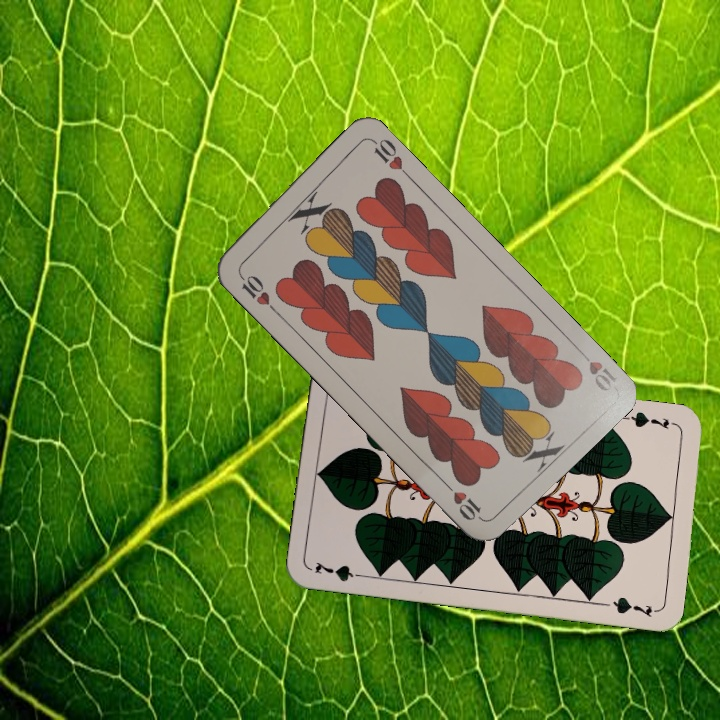G7: (311, 557, 369, 584), (621, 407, 680, 432)
H10: (572, 343, 620, 394), (234, 267, 279, 315)
